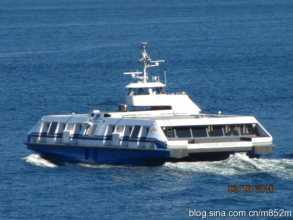otherboat: (24, 40, 267, 159)
